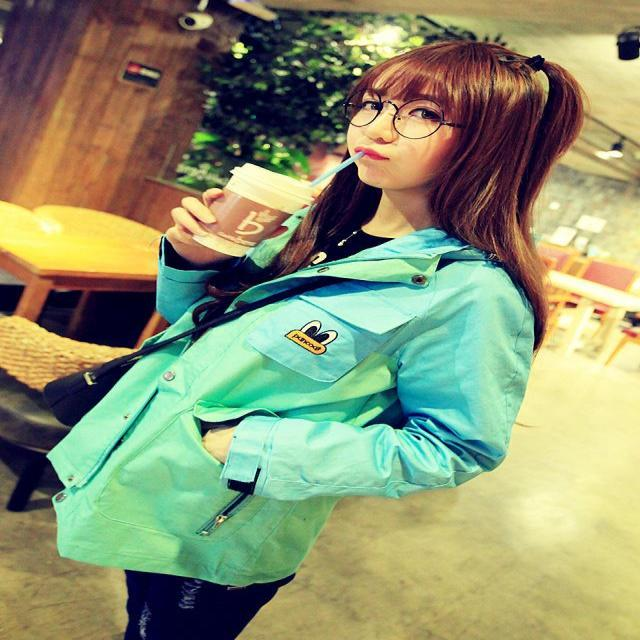long sleeve outwear: (47, 201, 536, 588)
trousers: (124, 454, 297, 640)
